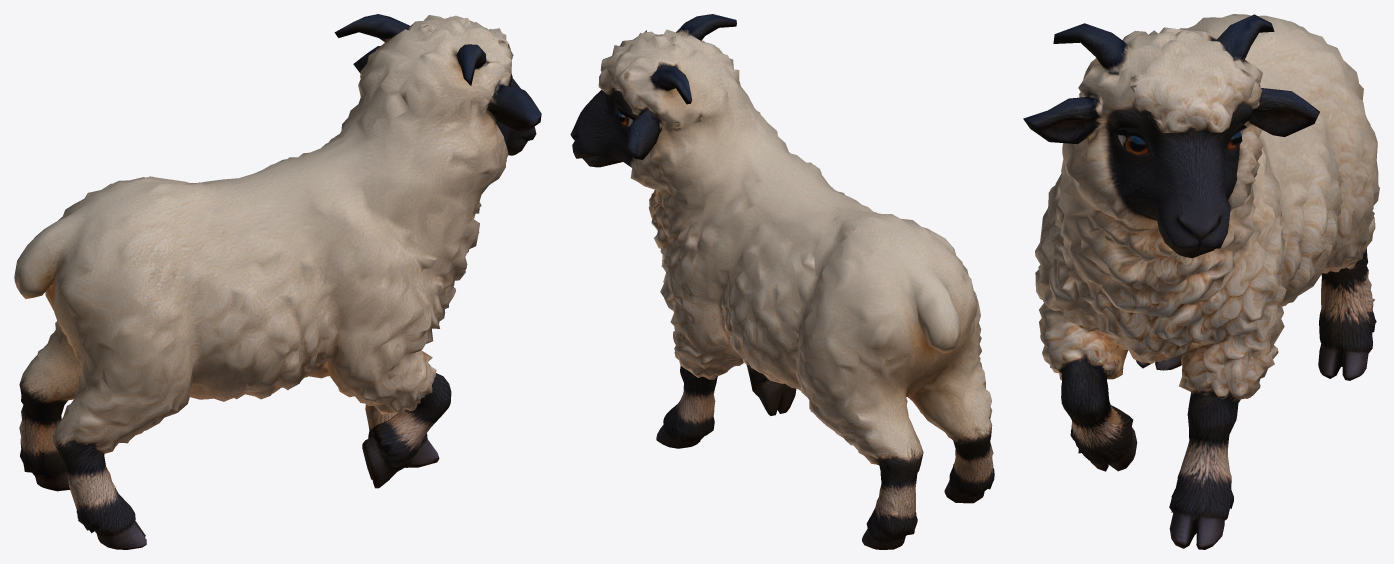
File: sheep.glb
The picture shows the model from 3 angles, left to right: view 1: azimuth 30°, elevation 25°; view 2: azimuth 150°, elevation 25°; view 3: azimuth 270°, elevation 25°; orthographic projection. The views are drawn at different scales.
Parts seen in each view (by area): view 1: tripo_node_679facfc-74e8-450a-91ab-3c79ba10d78c; view 2: tripo_node_679facfc-74e8-450a-91ab-3c79ba10d78c; view 3: tripo_node_679facfc-74e8-450a-91ab-3c79ba10d78c.
Boxes of the visible parts, x1=… form: tripo_node_679facfc-74e8-450a-91ab-3c79ba10d78c: x1=14, y1=14, x2=541, y2=549; tripo_node_679facfc-74e8-450a-91ab-3c79ba10d78c: x1=570, y1=14, x2=994, y2=549; tripo_node_679facfc-74e8-450a-91ab-3c79ba10d78c: x1=1023, y1=14, x2=1379, y2=549.
Bounding box in the file's own units: 0.9818 × 0.8741 × 0.547.
Materials: 1 (1 with a texture image).
